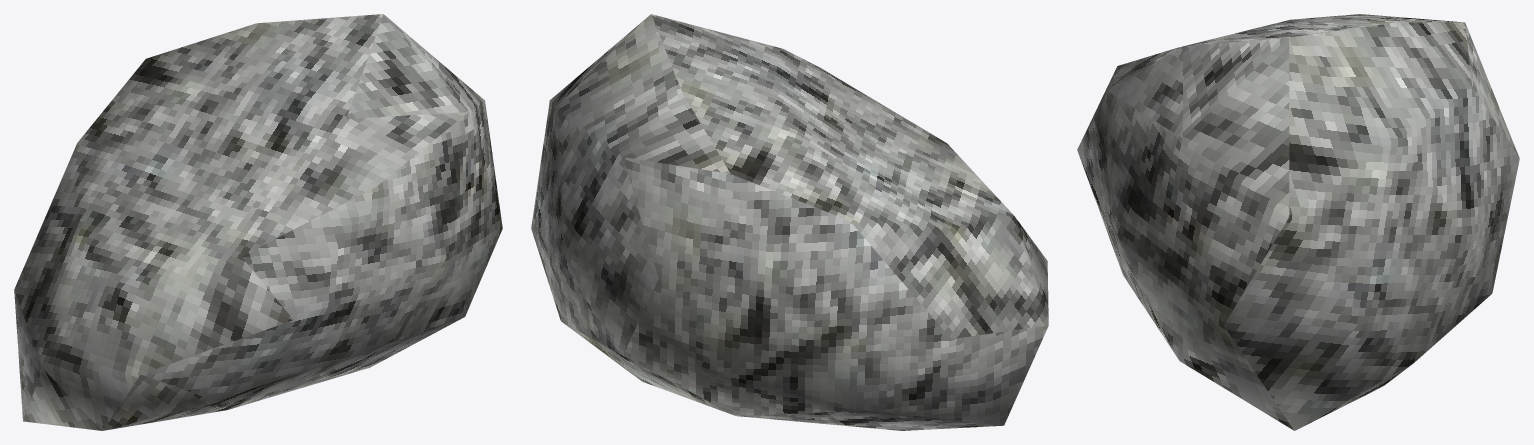
Rendered from kaya2.fbx.
The picture shows the model from 3 angles, left to right: view 1: azimuth 30°, elevation 25°; view 2: azimuth 150°, elevation 25°; view 3: azimuth 270°, elevation 25°; orthographic projection. The views are drawn at different scales.
Parts seen in each view (by area): view 1: kaya2; view 2: kaya2; view 3: kaya2.
Boxes of the visible parts, x1,y1,x2,y2 form: kaya2: (14, 14, 502, 430); kaya2: (531, 14, 1048, 430); kaya2: (1077, 14, 1519, 430).
Bounding box in the file's own units: 285 × 199 × 208.
